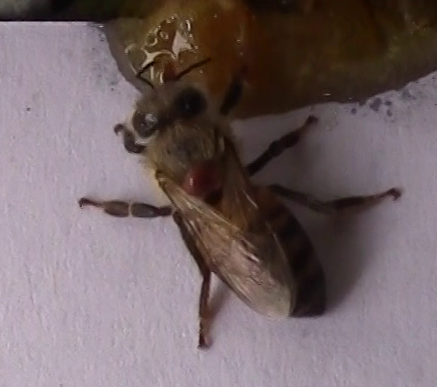Varroa destructor: (177, 154, 226, 201)
